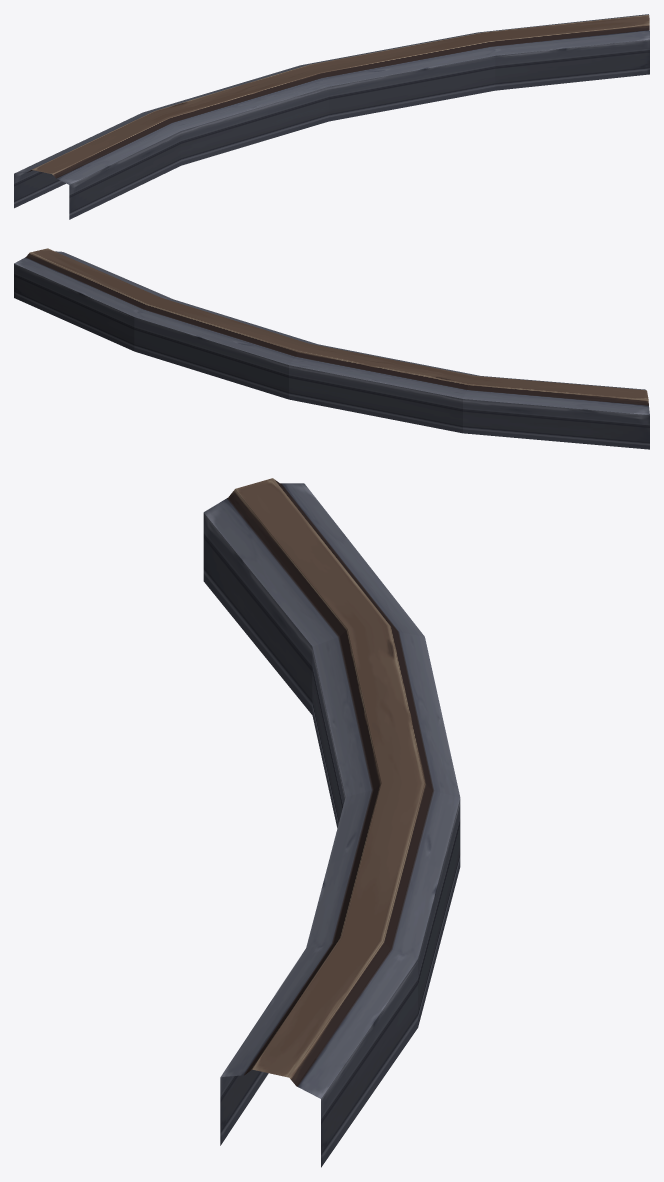
Rendered from yw_ziyuanpingtai_tiegui_001.FBX.
3 renders of one model, top to bottom at view 1: azimuth 30°, elevation 25°; view 2: azimuth 150°, elevation 25°; view 3: azimuth 270°, elevation 25°, orthographic. The views are drawn at different scales.
Parts seen in each view (by area): view 1: yw_ziyuanpingtai_tiegui_001; view 2: yw_ziyuanpingtai_tiegui_001; view 3: yw_ziyuanpingtai_tiegui_001.
Part boxes in pixels (bbox=[...]): yw_ziyuanpingtai_tiegui_001: bbox=[14, 14, 649, 219]; yw_ziyuanpingtai_tiegui_001: bbox=[14, 248, 649, 449]; yw_ziyuanpingtai_tiegui_001: bbox=[203, 478, 460, 1167].
Size of the model in its own units: 564 by 36.12 by 99.36.
